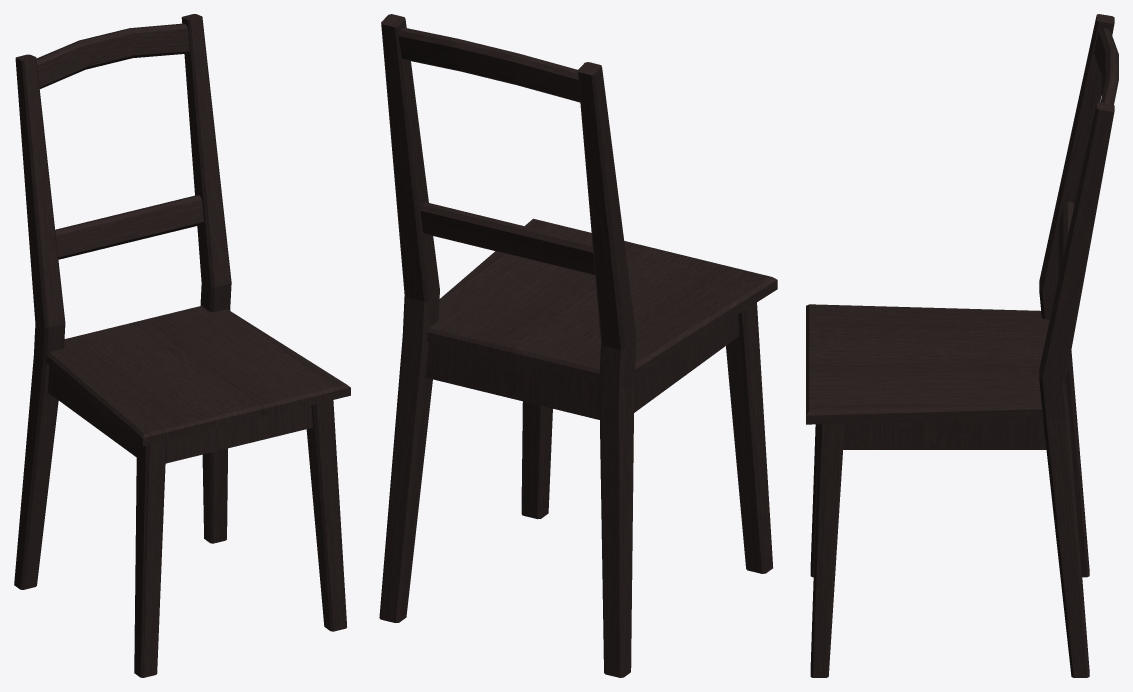
The model's file is Chair.fbx.
The picture shows the model from 3 angles, left to right: view 1: azimuth 30°, elevation 25°; view 2: azimuth 150°, elevation 25°; view 3: azimuth 270°, elevation 25°; orthographic projection. The views are drawn at different scales.
Visible parts, largest first — view 1: Chair; view 2: Chair; view 3: Chair.
Boxes of the visible parts, x1,y1,x2,y2 form: Chair: (14, 14, 350, 677); Chair: (379, 14, 777, 677); Chair: (806, 14, 1118, 677).
Bounding box in the file's own units: 0.4 × 0.9524 × 0.4805.
